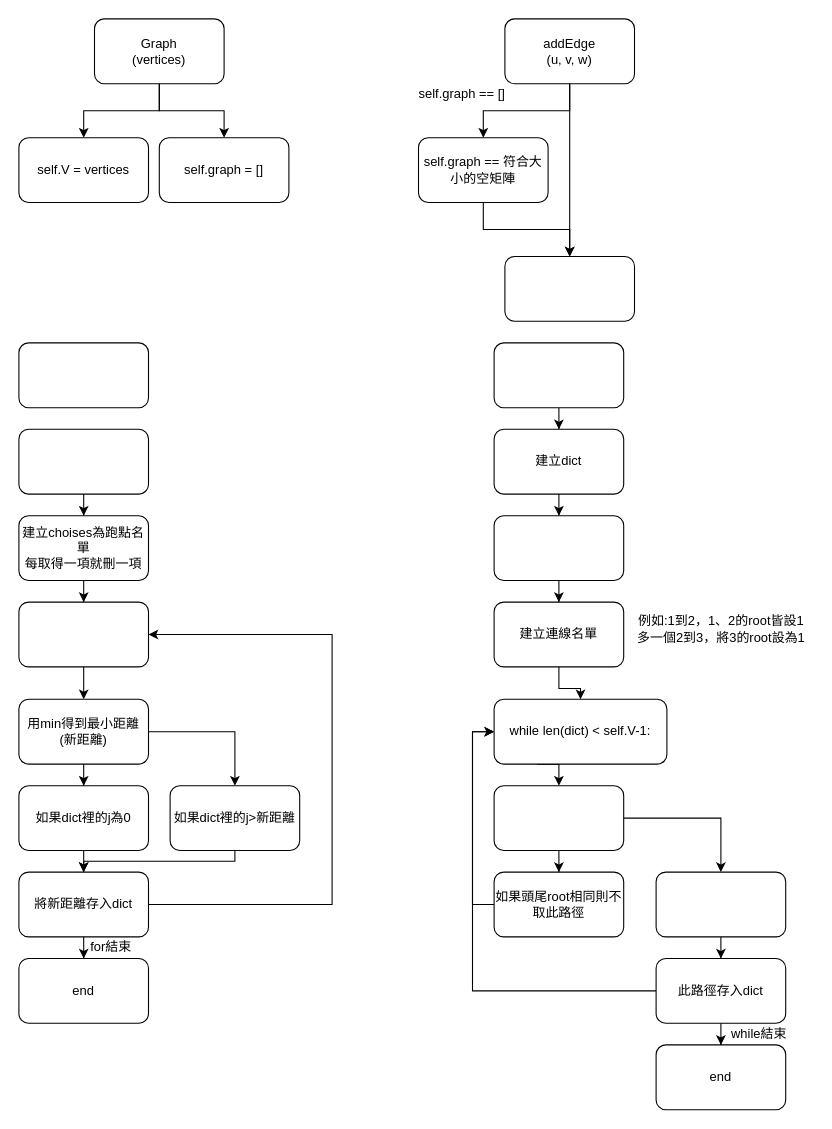
This 832x1129 diagram has some shape labels left out. The shapes that lost their labels are listed below. From the top down, each one's centre as x and y in pixels, then its label:
At (x=569, y=288): "self.graph[u][v] = w".
At (x=83, y=375): "Dijkstra (s)".
At (x=558, y=375): "Kruskal".
At (x=83, y=461): "建立dict 將起始列存入".
At (x=558, y=547): "建立choises為跑點名單距離 每取得一項就刪一項".
At (x=83, y=634): "for j in choises".
At (x=558, y=817): "用min2取得最小距離(新距離)和頭尾的點".
At (x=720, y=904): "如果頭尾root不相同則取此路徑".
